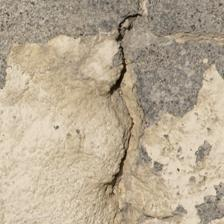Crack: (0, 0, 87, 80), (50, 22, 99, 117)
